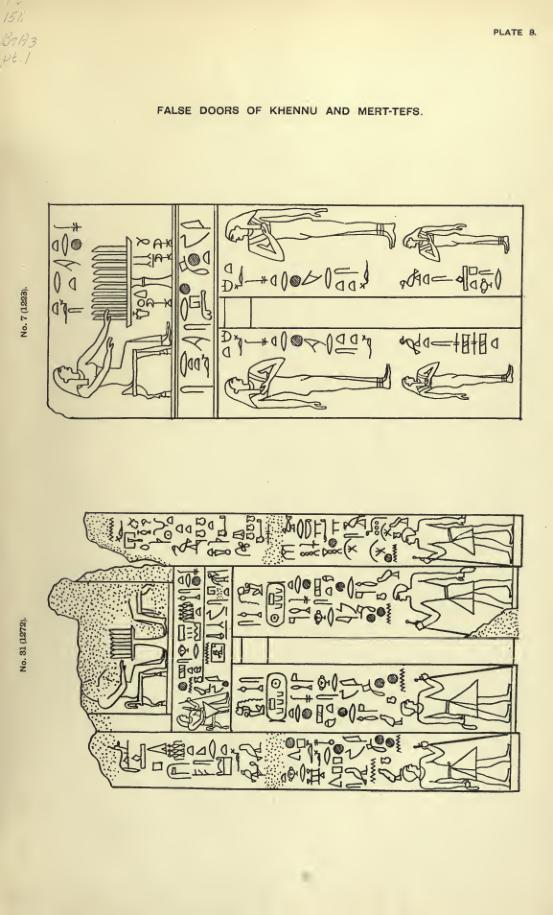circle: (264, 671, 289, 726), (264, 578, 288, 629)
